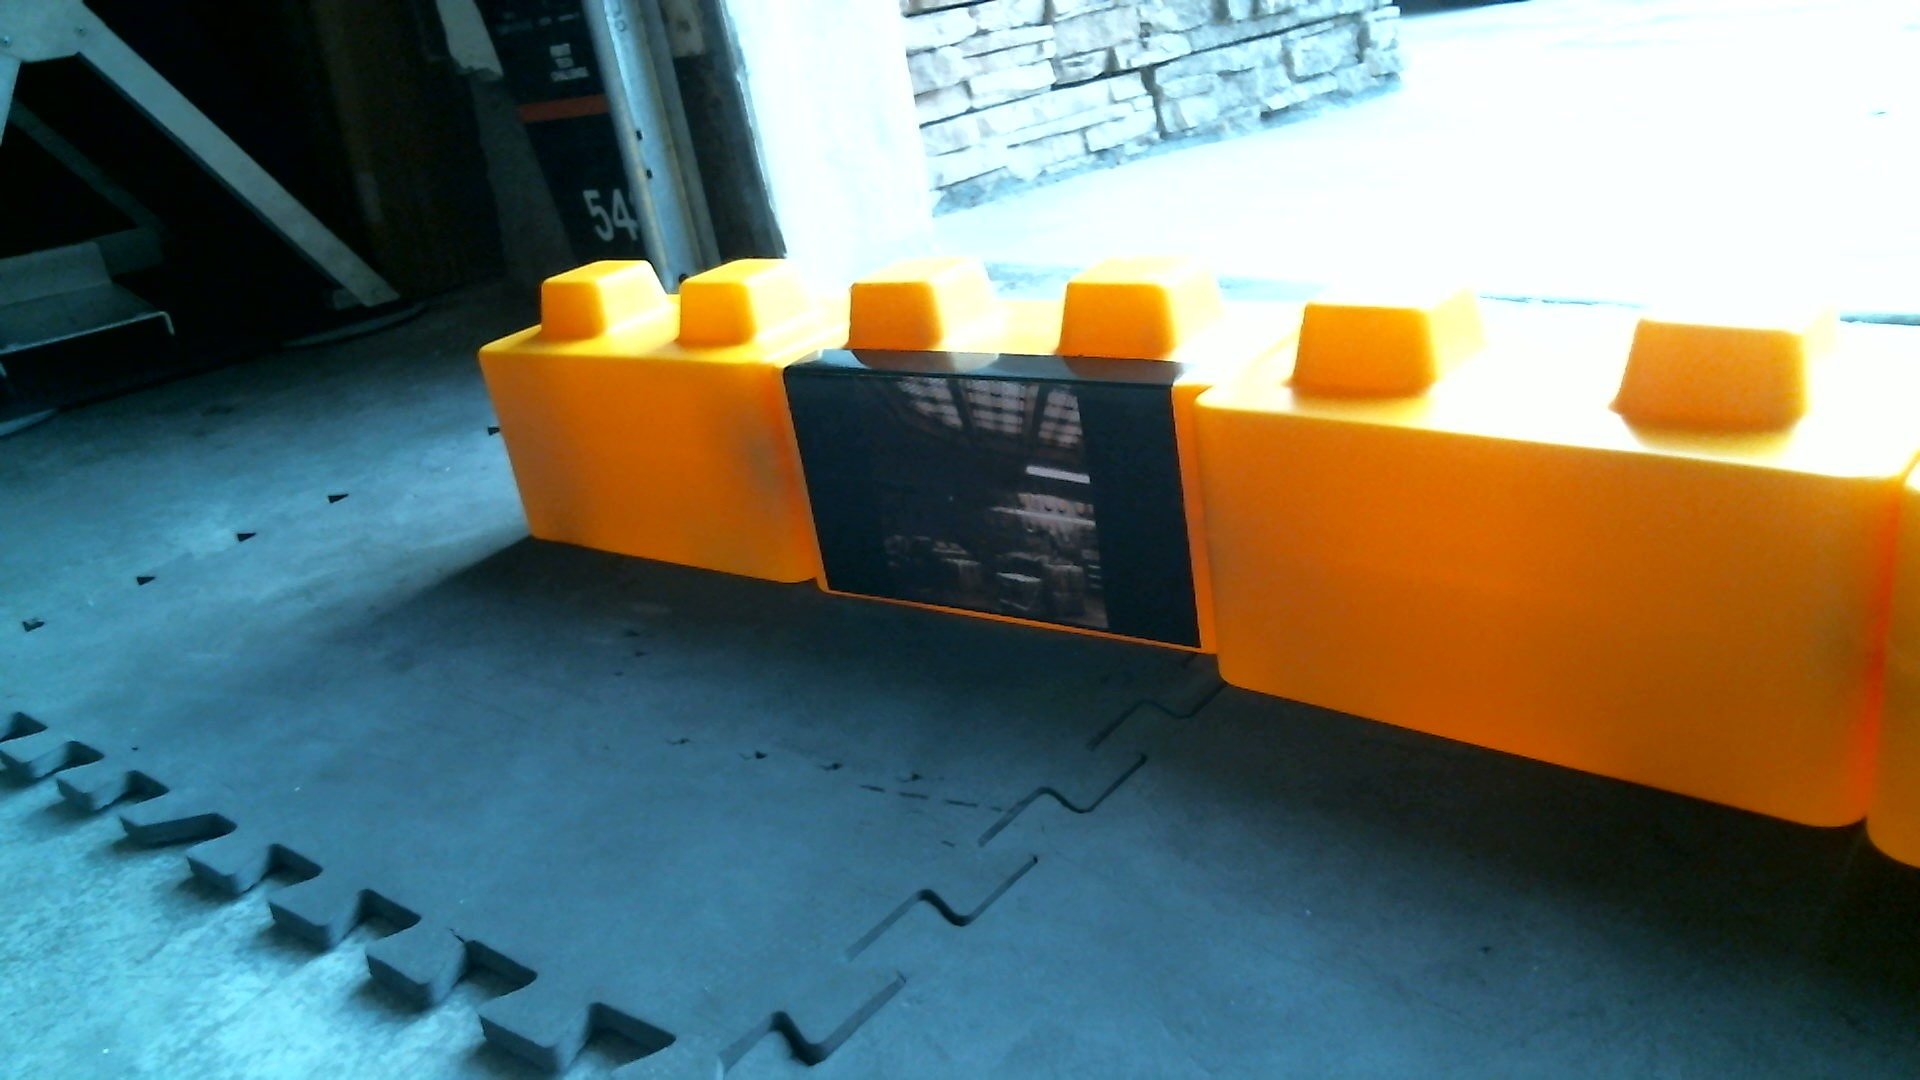center: (473, 218, 1909, 876)
